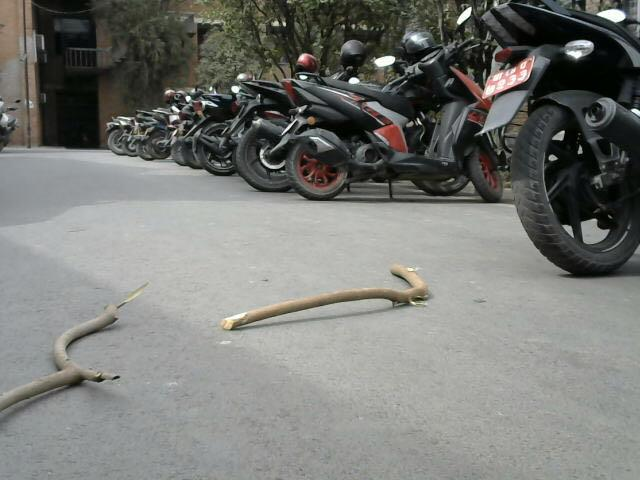Motorcycle: (93, 39, 640, 281)
Road: (2, 151, 640, 480)
